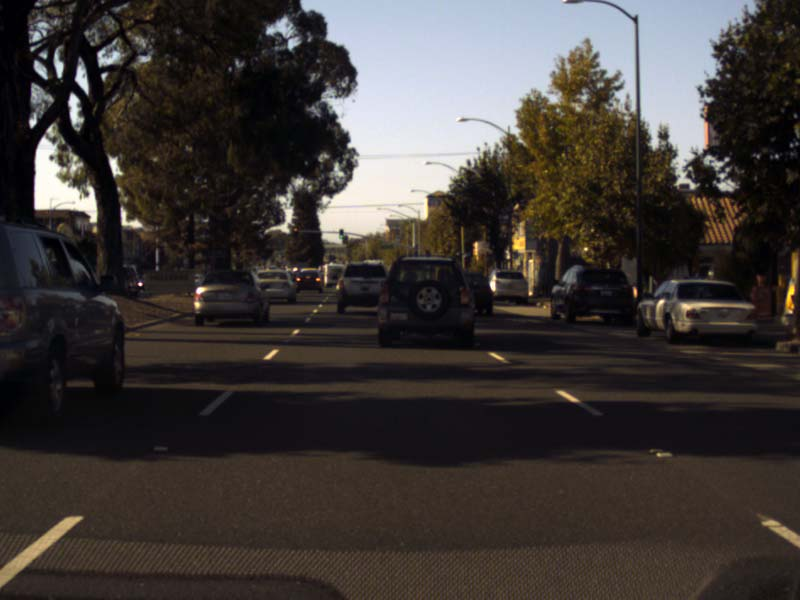Green: (339, 229, 343, 237), (343, 236, 347, 243)
Red: (293, 226, 297, 236)
